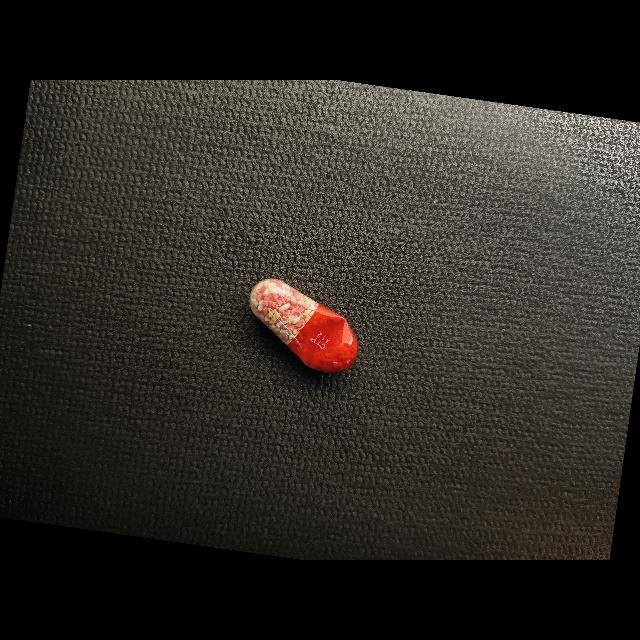Defective Capsule: (249, 278, 358, 373)
